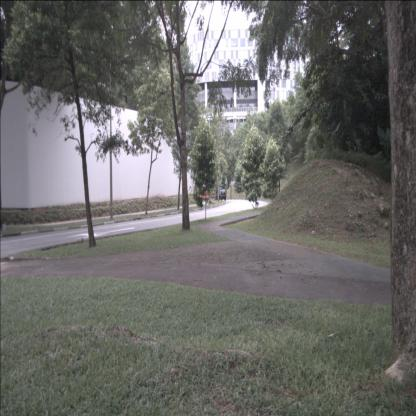vehicle-car: (215, 188, 226, 201)
